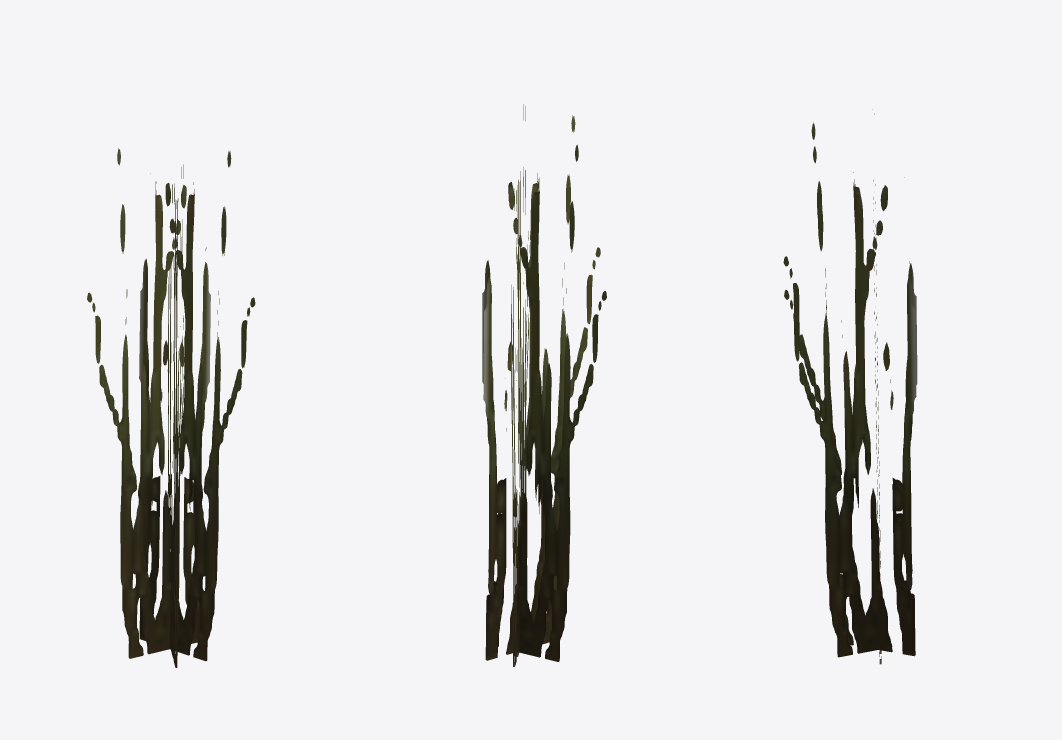
Rendered from vegetation_1_grass.fbx.
3 renders of one model, left to right at view 1: azimuth 30°, elevation 25°; view 2: azimuth 150°, elevation 25°; view 3: azimuth 270°, elevation 25°, orthographic.
Parts seen in each view (by area): view 1: pasted__polySurface3; view 2: pasted__polySurface3; view 3: pasted__polySurface3.
Boxes of the visible parts, left/top/right/bottom form: pasted__polySurface3: left=87, top=148, right=255, bottom=667; pasted__polySurface3: left=482, top=104, right=606, bottom=666; pasted__polySurface3: left=783, top=109, right=917, bottom=664.
Bounding box in the file's own units: 7.15 × 12.3 × 6.73.
